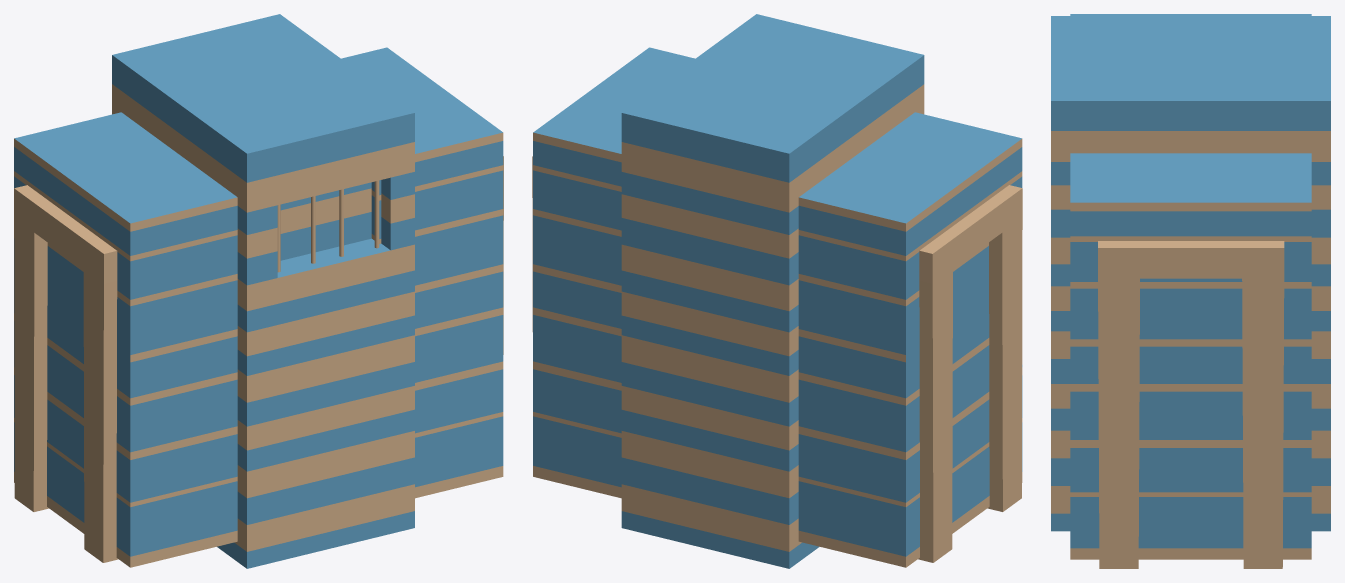
File: building 2.fbx
3 renders of one model, left to right at view 1: azimuth 30°, elevation 25°; view 2: azimuth 150°, elevation 25°; view 3: azimuth 270°, elevation 25°, orthographic. The views are drawn at different scales.
Parts seen in each view (by area): view 1: pCube6, pCube9, pCube10, pCube4; view 2: pCube6, pCube9, pCube10, pCube4; view 3: pCube10, pCube6, pCube7, pCube9.
Boxes of the visible parts, x1,y1,x2,y2 form: pCube6: (112, 14, 414, 568); pCube9: (14, 112, 237, 567); pCube10: (341, 47, 503, 498); pCube4: (14, 185, 118, 562); pCube6: (621, 14, 924, 568); pCube9: (798, 112, 1022, 567); pCube10: (533, 47, 694, 498); pCube4: (918, 185, 1022, 562); pCube10: (1070, 153, 1311, 559); pCube6: (1051, 16, 1330, 531); pCube7: (1098, 241, 1284, 568); pCube9: (1070, 14, 1311, 15).
Bounding box in the file's own units: 14.58 × 14.46 × 8.52.
